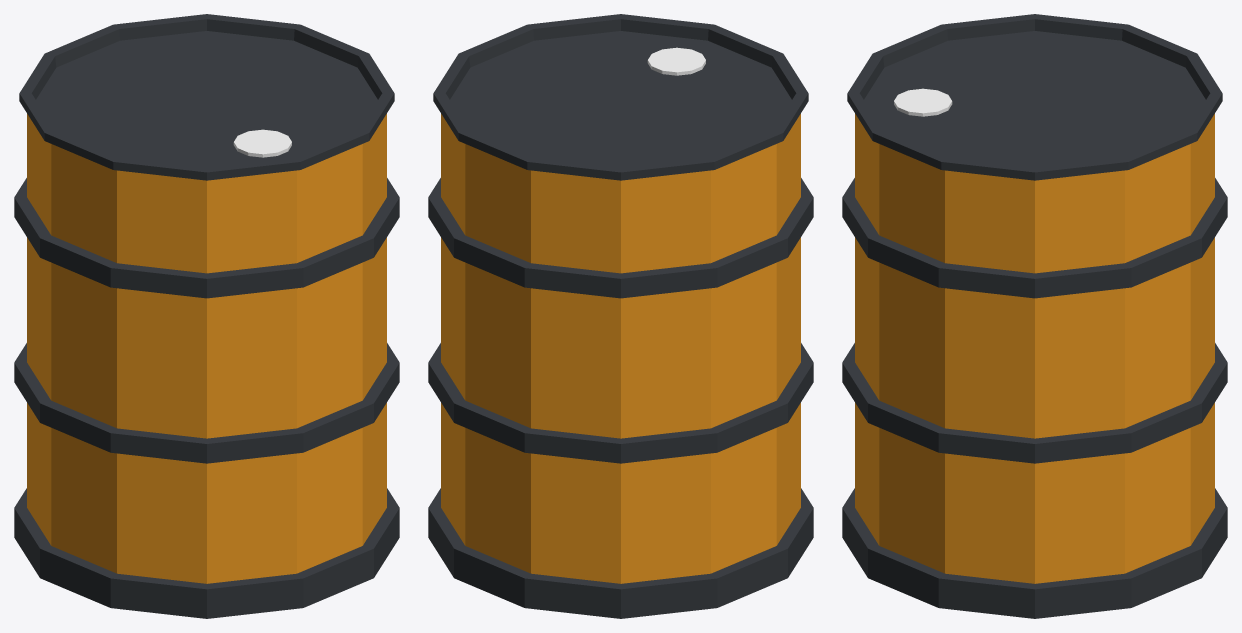
Rendered from Barrel_2.fbx.
3 renders of one model, left to right at view 1: azimuth 30°, elevation 25°; view 2: azimuth 150°, elevation 25°; view 3: azimuth 270°, elevation 25°, orthographic.
Parts seen in each view (by area): view 1: Barrel_2; view 2: Barrel_2; view 3: Barrel_2.
Boxes of the visible parts, left/top/right/bottom form: Barrel_2: left=14, top=14, right=399, bottom=618; Barrel_2: left=428, top=14, right=813, bottom=618; Barrel_2: left=842, top=14, right=1227, bottom=618.
Bounding box in the file's own units: 78.49 × 99.8 × 78.49.
